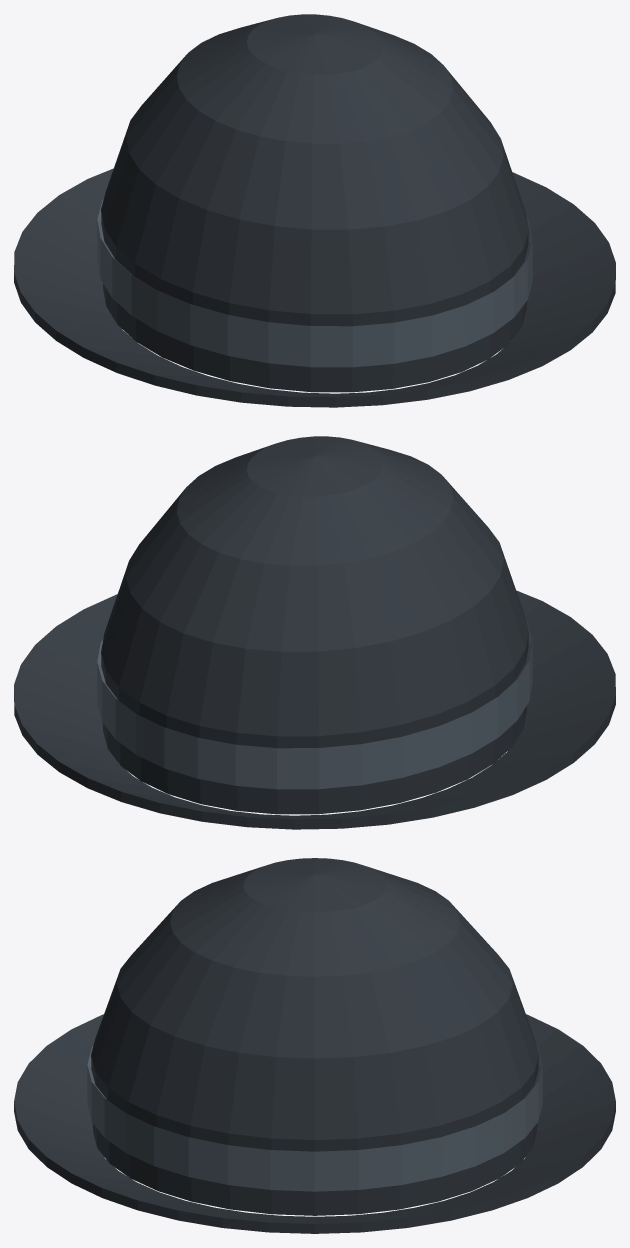
Rendered from hat_bowler.glb.
3 views of the same model, one above another, from view 1: azimuth 30°, elevation 25°; view 2: azimuth 150°, elevation 25°; view 3: azimuth 270°, elevation 25° (orthographic). The views are drawn at different scales.
Parts seen in each view (by area): view 1: Bowler_Round_Crown, Bowler_Rolled_Brim, Bowler_Ribbon; view 2: Bowler_Round_Crown, Bowler_Rolled_Brim, Bowler_Ribbon; view 3: Bowler_Round_Crown, Bowler_Rolled_Brim, Bowler_Ribbon.
Part boxes in pixels (x1,y1,x2,y2): Bowler_Round_Crown: (101,14,528,392); Bowler_Rolled_Brim: (14,168,615,407); Bowler_Ribbon: (97,199,532,367); Bowler_Round_Crown: (101,436,528,814); Bowler_Rolled_Brim: (14,590,615,829); Bowler_Ribbon: (97,621,532,789); Bowler_Round_Crown: (91,858,538,1215); Bowler_Rolled_Brim: (14,1014,615,1233); Bowler_Ribbon: (87,1046,542,1191).
Size of the model in its own units: 0.316 by 0.161 by 0.328.
